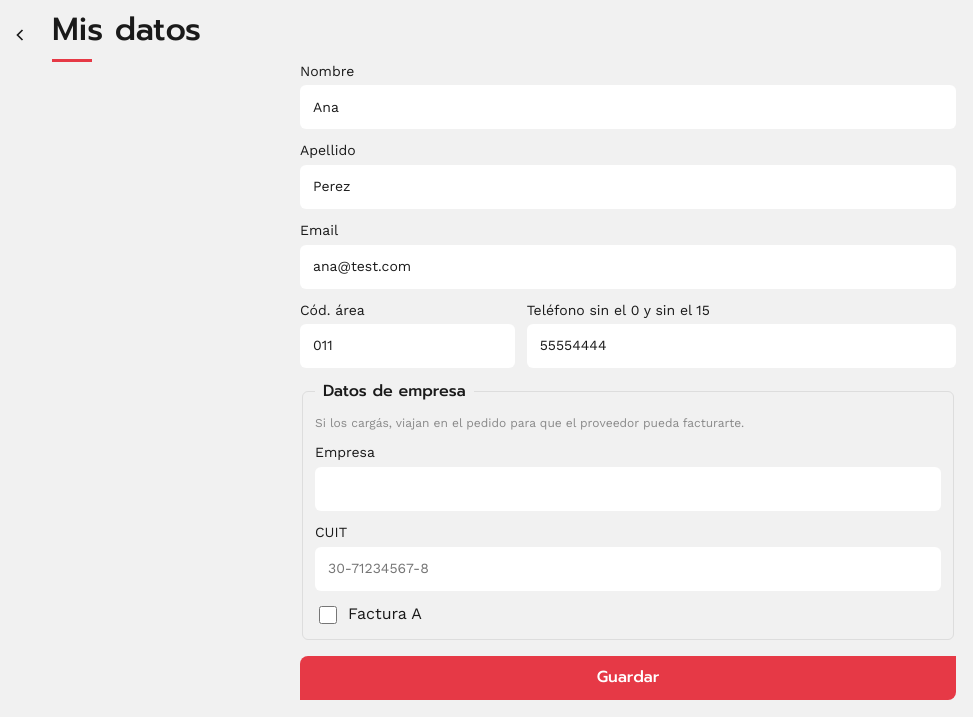
it: DetalleUsuario: datos de empresa › pone los guiones del CUIT solos y corta en 11 dígitos
The width and height of the screenshot is (973, 717).
Type "307123456789999" into the field labelled "CUIT" at [628, 568], box [315,546,941,590]
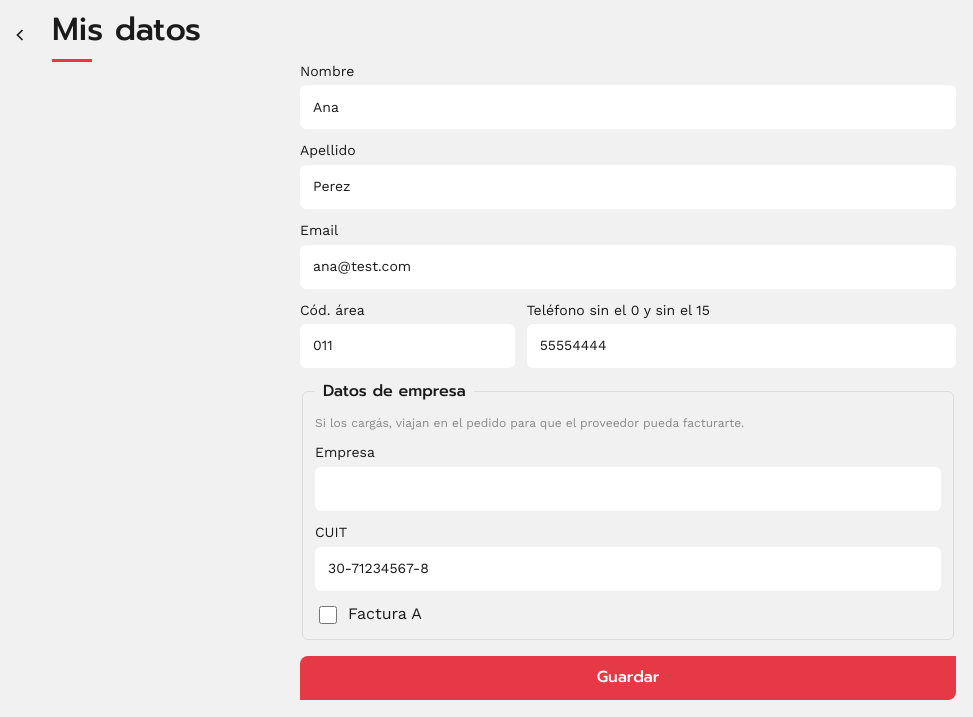
Check: the field labelled "CUIT" holds "30-71234567-8"
Type "30 712" into the field labelled "CUIT" at [628, 568], box [315,546,941,590]
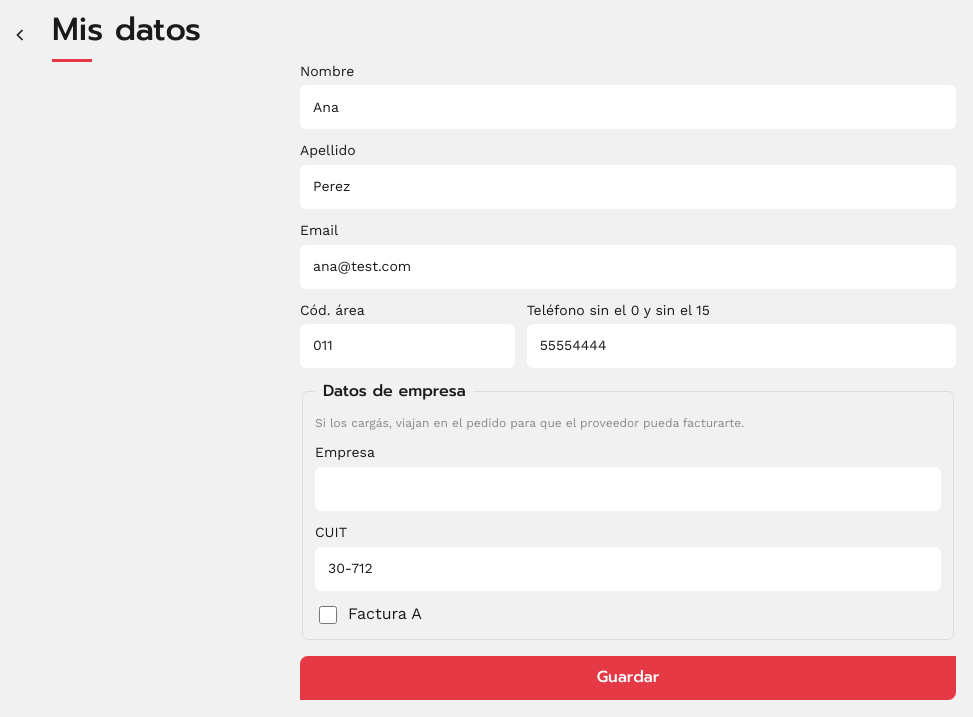
Check: the field labelled "CUIT" holds "30-712", box [315,546,941,590]
